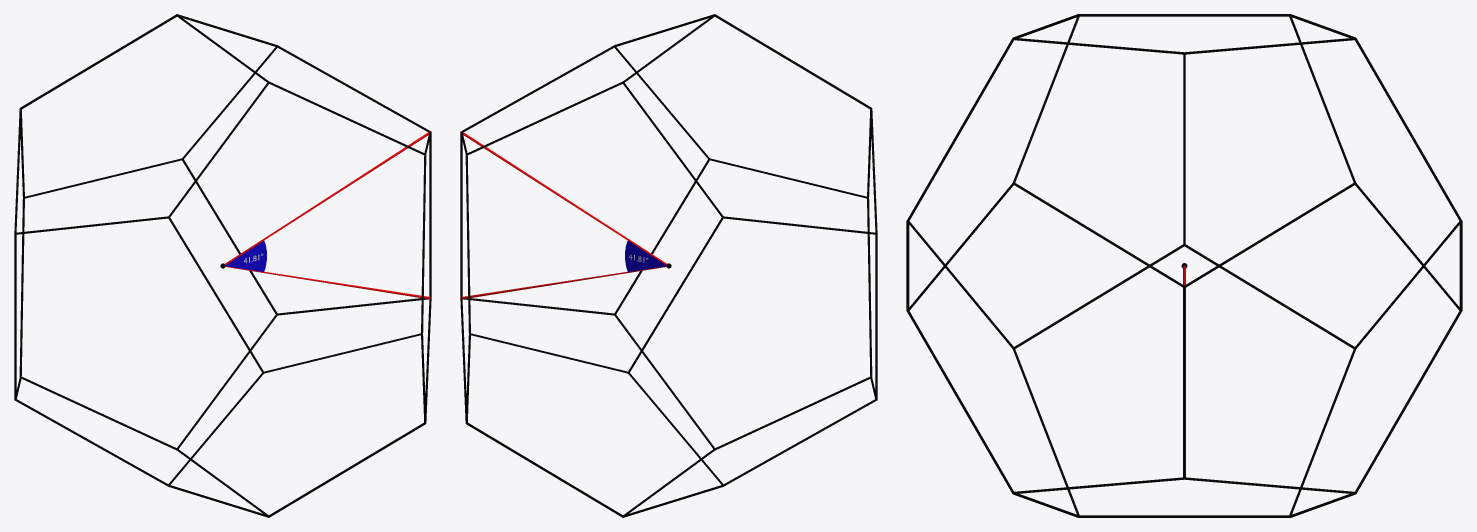
The model's file is Ang_central.glb.
3 renders of one model, left to right at view 1: azimuth 30°, elevation 25°; view 2: azimuth 150°, elevation 25°; view 3: azimuth 270°, elevation 25°, orthographic. The views are drawn at different scales.
Visible parts, largest first — view 1: Solid, Solid.004, Circle; view 2: Solid, Solid.004, Circle; view 3: Solid.
Part boxes in pixels (left/top/right/bottom): Solid: left=14, top=14, right=431, bottom=517; Solid.004: left=225, top=131, right=431, bottom=299; Circle: left=225, top=241, right=266, bottom=271; Solid: left=460, top=14, right=877, bottom=517; Solid.004: left=460, top=131, right=666, bottom=299; Circle: left=625, top=240, right=666, bottom=271; Solid: left=906, top=14, right=1462, bottom=517.
Bounding box in the file's own units: 1.88 × 1.88 × 1.88.
